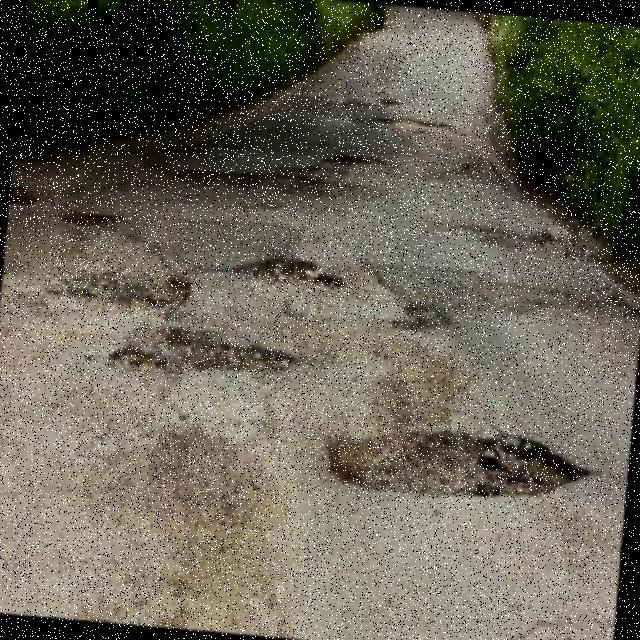Pothole: (325, 431, 592, 499), (108, 326, 301, 380), (46, 274, 192, 310), (178, 170, 370, 196), (231, 258, 345, 288), (60, 209, 122, 230), (373, 119, 458, 134), (322, 155, 387, 167)
